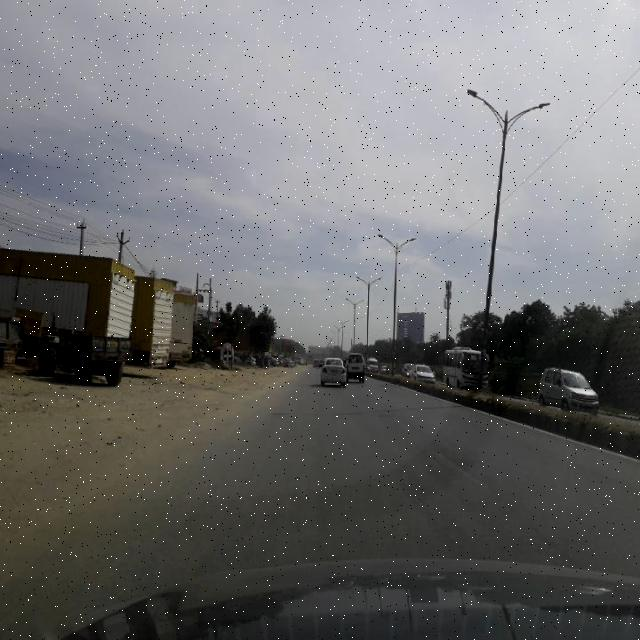D44: (420, 430, 484, 490)
